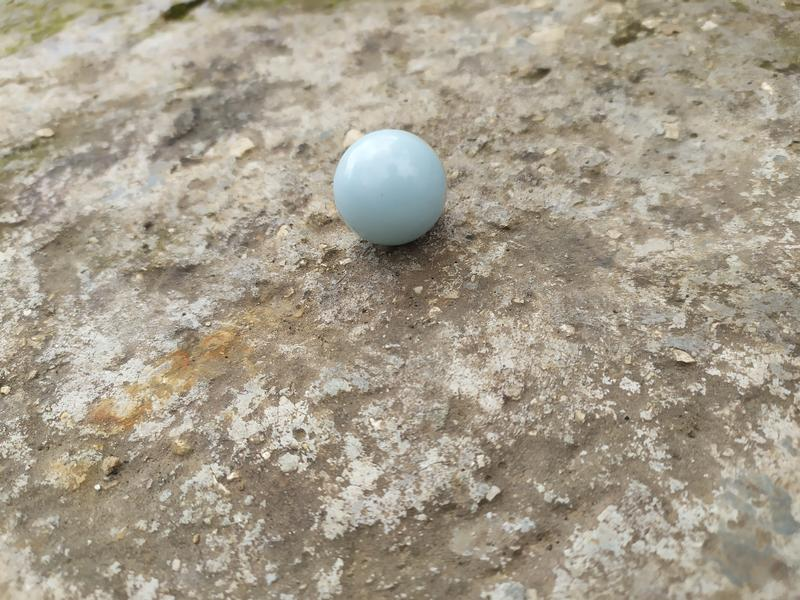Warning: (330, 126, 451, 249)
